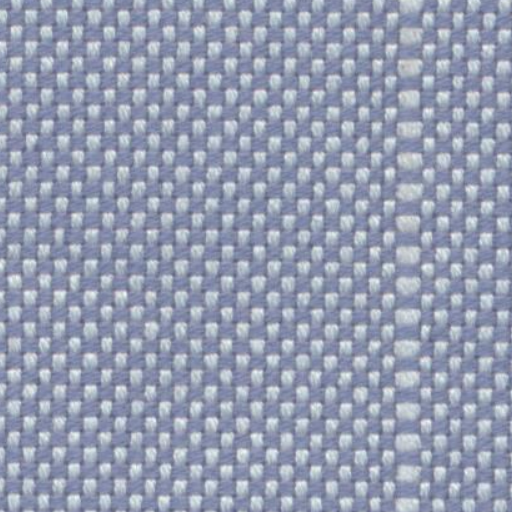TuoSha: (380, 2, 446, 502)
